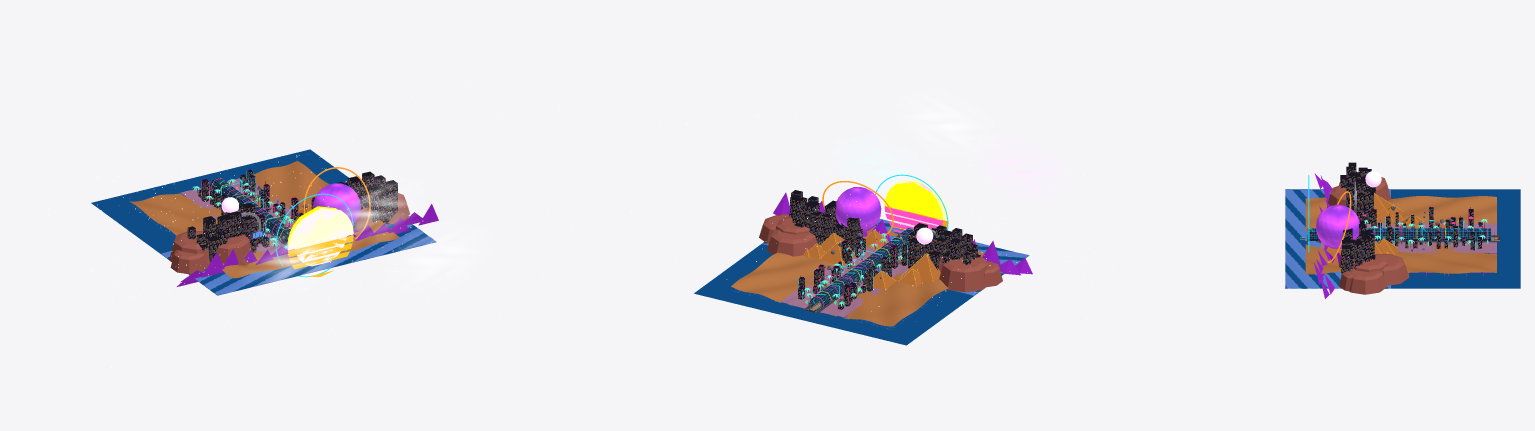
File: synthwave-stage.glb
The picture shows the model from 3 angles, left to right: view 1: azimuth 30°, elevation 25°; view 2: azimuth 150°, elevation 25°; view 3: azimuth 270°, elevation 25°; orthographic projection. The views are drawn at different scales.
Visible parts, largest first — view 1: Ocean, CityDetail_Skyline, DesertDetail_Dunes_-1, DesertDetail_Dunes_1, SpaceDetail_Nebula_0, SpaceDetail_Nebula_1, SpaceDetail_Nebula_2, DesertDetail_Mesas, BeachDetail_Waves, bass_Moon, Stars, bass_Planet (+2 smaller); view 2: Ocean, CityDetail_Skyline, DesertDetail_Mesas, DesertDetail_Dunes_1, DesertDetail_Dunes_-1, SpaceDetail_Nebula_2, SpaceDetail_Nebula_0, SpaceDetail_Nebula_1, bass_Planet, TunnelDetail_Walls, Stars, BeachDetail_Sand_1 (+3 smaller); view 3: Ocean, DesertDetail_Dunes_-1, DesertDetail_Dunes_1, DesertDetail_Mesas, CityDetail_Skyline, BeachDetail_Waves, bass_Planet, TunnelDetail_Walls, BeachDetail_Sand_1, beat_Pyramid_9, BeachDetail_Sand_-1.
Boxes of the visible parts, bbox=[...] form: Ocean: bbox=[91, 149, 436, 295]; CityDetail_Skyline: bbox=[187, 171, 397, 262]; DesertDetail_Dunes_-1: bbox=[130, 193, 299, 278]; DesertDetail_Dunes_1: bbox=[253, 161, 399, 253]; SpaceDetail_Nebula_0: bbox=[254, 230, 339, 285]; SpaceDetail_Nebula_1: bbox=[397, 229, 481, 285]; SpaceDetail_Nebula_2: bbox=[332, 182, 415, 237]; DesertDetail_Mesas: bbox=[169, 193, 409, 274]; BeachDetail_Waves: bbox=[161, 224, 434, 295]; bass_Moon: bbox=[295, 210, 347, 266]; Stars: bbox=[16, 14, 586, 416]; bass_Planet: bbox=[313, 183, 360, 224]; Ocean: bbox=[694, 223, 1028, 345]; CityDetail_Skyline: bbox=[789, 190, 980, 269]; DesertDetail_Mesas: bbox=[759, 214, 1002, 292]; DesertDetail_Dunes_1: bbox=[731, 227, 897, 307]; DesertDetail_Dunes_-1: bbox=[822, 251, 984, 326]; SpaceDetail_Nebula_2: bbox=[904, 96, 986, 149]; SpaceDetail_Nebula_0: bbox=[979, 142, 1061, 196]; SpaceDetail_Nebula_1: bbox=[840, 142, 918, 193]; bass_Planet: bbox=[835, 187, 881, 232]; TunnelDetail_Walls: bbox=[809, 228, 913, 308]; Stars: bbox=[615, 23, 1163, 416]; BeachDetail_Sand_1: bbox=[781, 239, 891, 308]; Ocean: bbox=[1285, 189, 1520, 288]; DesertDetail_Dunes_-1: bbox=[1305, 196, 1496, 231]; DesertDetail_Dunes_1: bbox=[1305, 244, 1496, 274]; DesertDetail_Mesas: bbox=[1327, 177, 1409, 294]; CityDetail_Skyline: bbox=[1340, 162, 1375, 275]; BeachDetail_Waves: bbox=[1285, 189, 1390, 288]; bass_Planet: bbox=[1316, 204, 1359, 249]; TunnelDetail_Walls: bbox=[1307, 228, 1491, 240]; BeachDetail_Sand_1: bbox=[1320, 242, 1496, 253]; beat_Pyramid_9: bbox=[1374, 193, 1393, 222]; BeachDetail_Sand_-1: bbox=[1366, 223, 1496, 235].
Bounding box in the file's own units: 799 × 400 × 549.
Materials: 46 (7 with a texture image).
